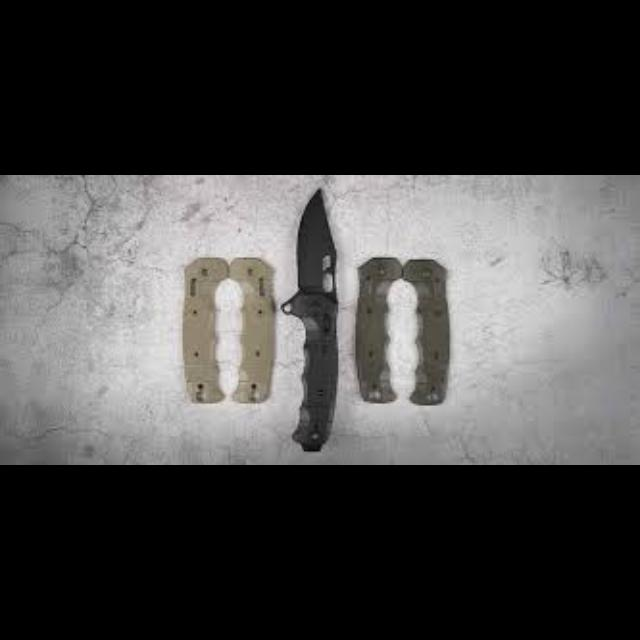Knife: (280, 186, 338, 452)
